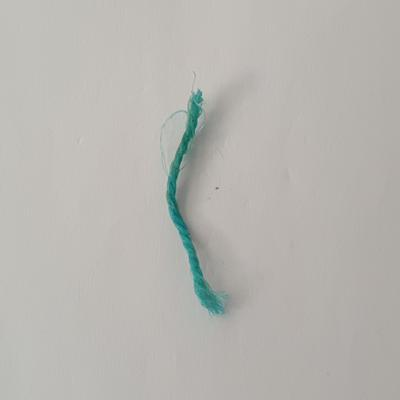thread: (157, 72, 248, 322)
